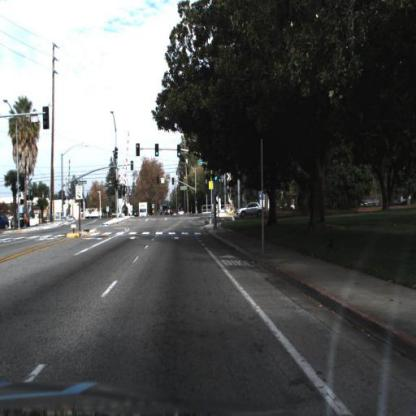car: (236, 201, 264, 219), (13, 212, 31, 230), (165, 207, 177, 223)
trafficLight-Green: (213, 169, 220, 183), (177, 144, 183, 159), (156, 142, 161, 158), (156, 144, 161, 157)
trafficLight-RedLeft: (135, 137, 142, 158), (136, 144, 141, 156)
truck: (138, 202, 152, 223)
